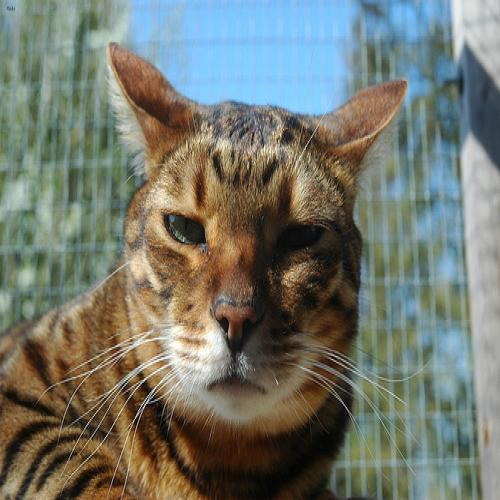bengal: (107, 43, 408, 430)
